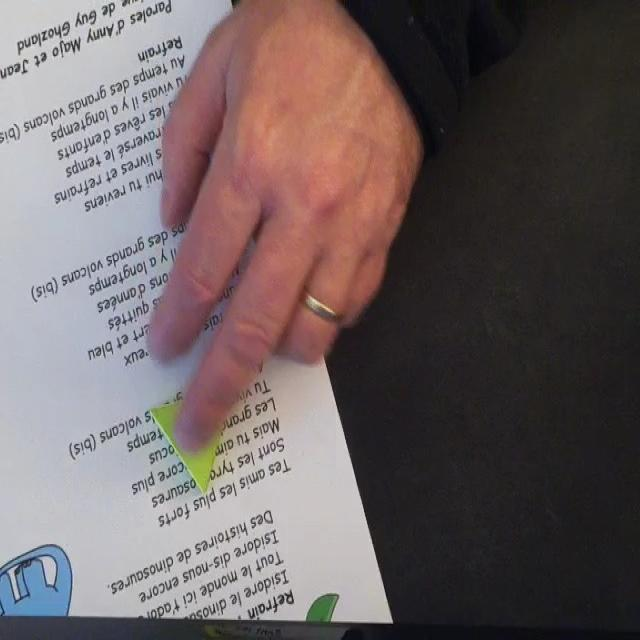triangle: (148, 399, 231, 497)
